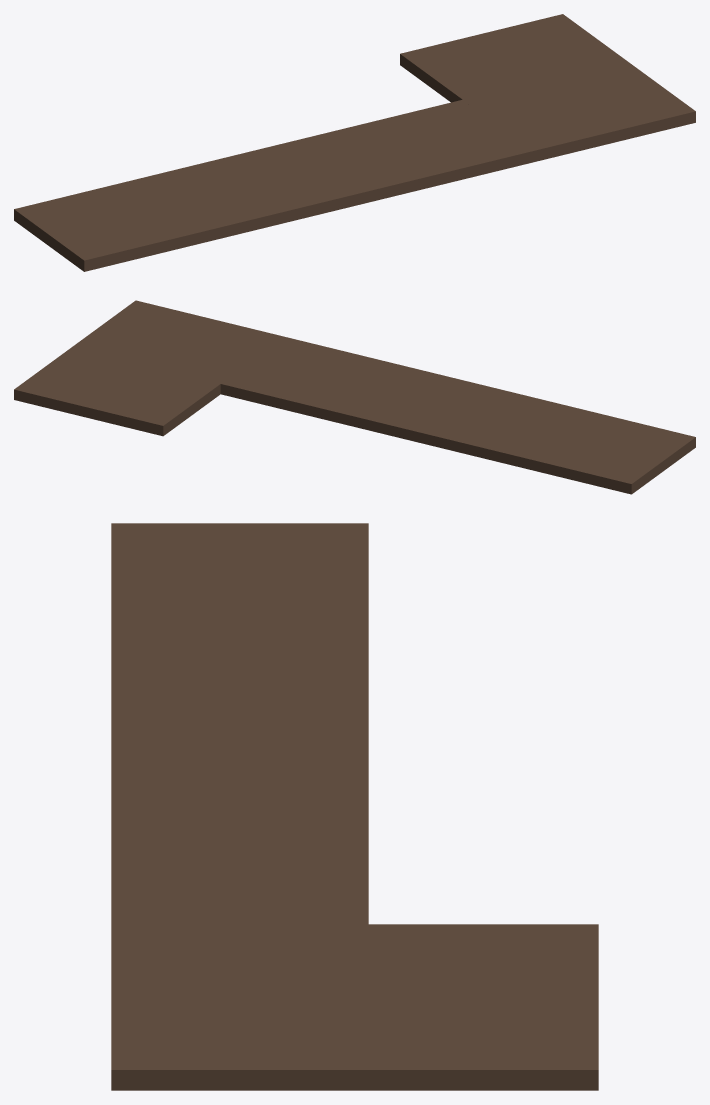
File: Dach_Zwischenboden.glb
The picture shows the model from 3 angles, top to bottom: view 1: azimuth 30°, elevation 25°; view 2: azimuth 150°, elevation 25°; view 3: azimuth 270°, elevation 25°; orthographic projection. The views are drawn at different scales.
Parts seen in each view (by area): view 1: Curve.026, Curve.025; view 2: Curve.026, Curve.025; view 3: Curve.026, Curve.025.
Part boxes in pixels (left/top/right/bottom): Curve.026: left=14, top=99, right=532, bottom=271; Curve.025: left=400, top=14, right=695, bottom=162; Curve.026: left=220, top=337, right=695, bottom=494; Curve.025: left=14, top=300, right=284, bottom=436; Curve.026: left=111, top=523, right=368, bottom=924; Curve.025: left=111, top=924, right=598, bottom=1090.
Bounding box in the file's own units: 5.63 × 0.1 × 2.12.
